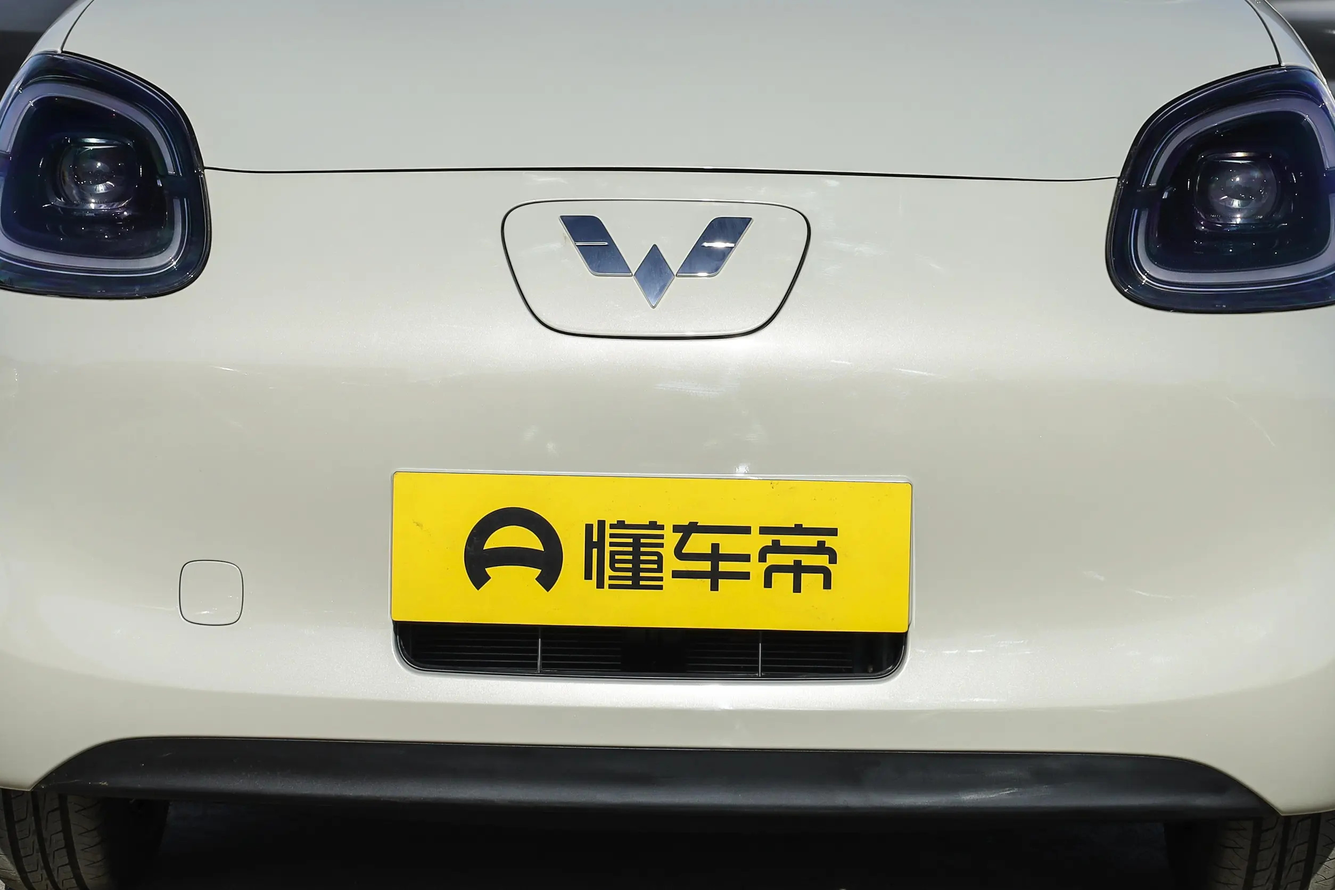SGMW: (559, 215, 753, 308)
